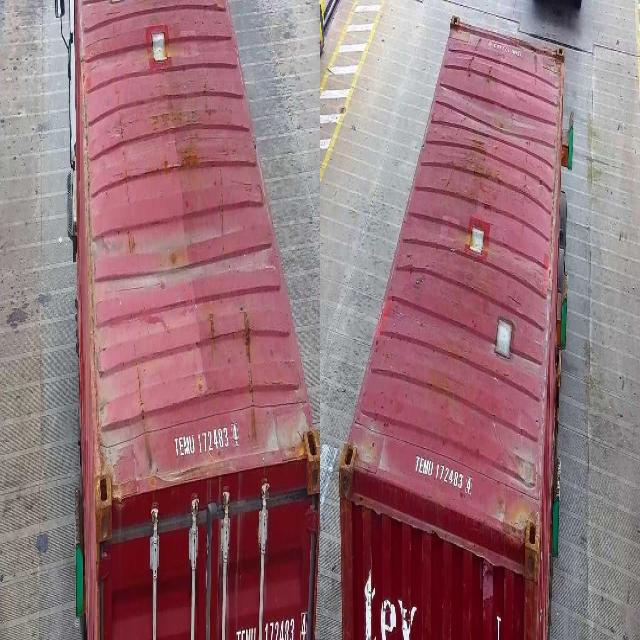dent: (109, 174, 271, 329), (455, 41, 544, 167)
